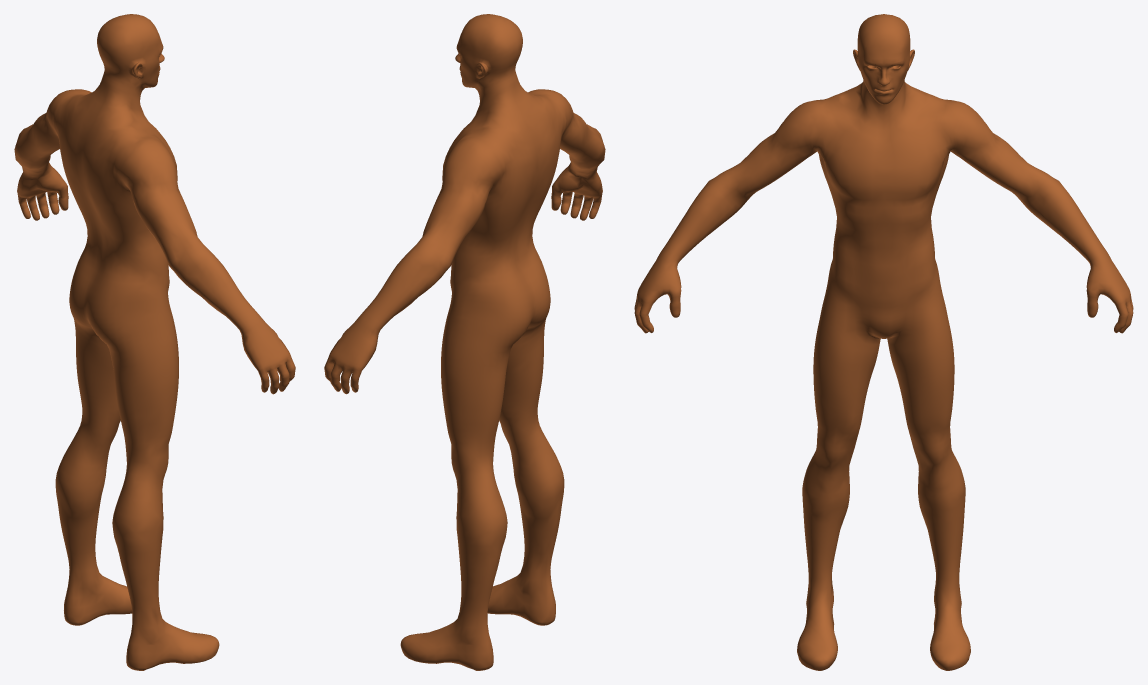
The model's file is HumanBasemesh.fbx.
The picture shows the model from 3 angles, left to right: view 1: azimuth 30°, elevation 25°; view 2: azimuth 150°, elevation 25°; view 3: azimuth 270°, elevation 25°; orthographic projection.
Visible parts, largest first — view 1: Male_Basemesh_01; view 2: Male_Basemesh_01; view 3: Male_Basemesh_01.
Part boxes in pixels (<box>): Male_Basemesh_01: <box>14,14,295,670</box>; Male_Basemesh_01: <box>324,14,605,670</box>; Male_Basemesh_01: <box>634,14,1133,670</box>.
Size of the model in its own units: 33.71 by 187 by 134.
